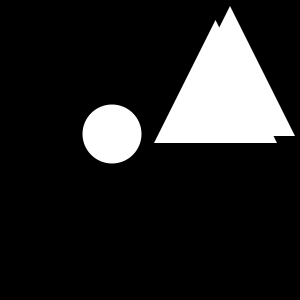rectangle: (82, 104, 142, 163)
triangle: (165, 6, 295, 136), (154, 20, 277, 143)
